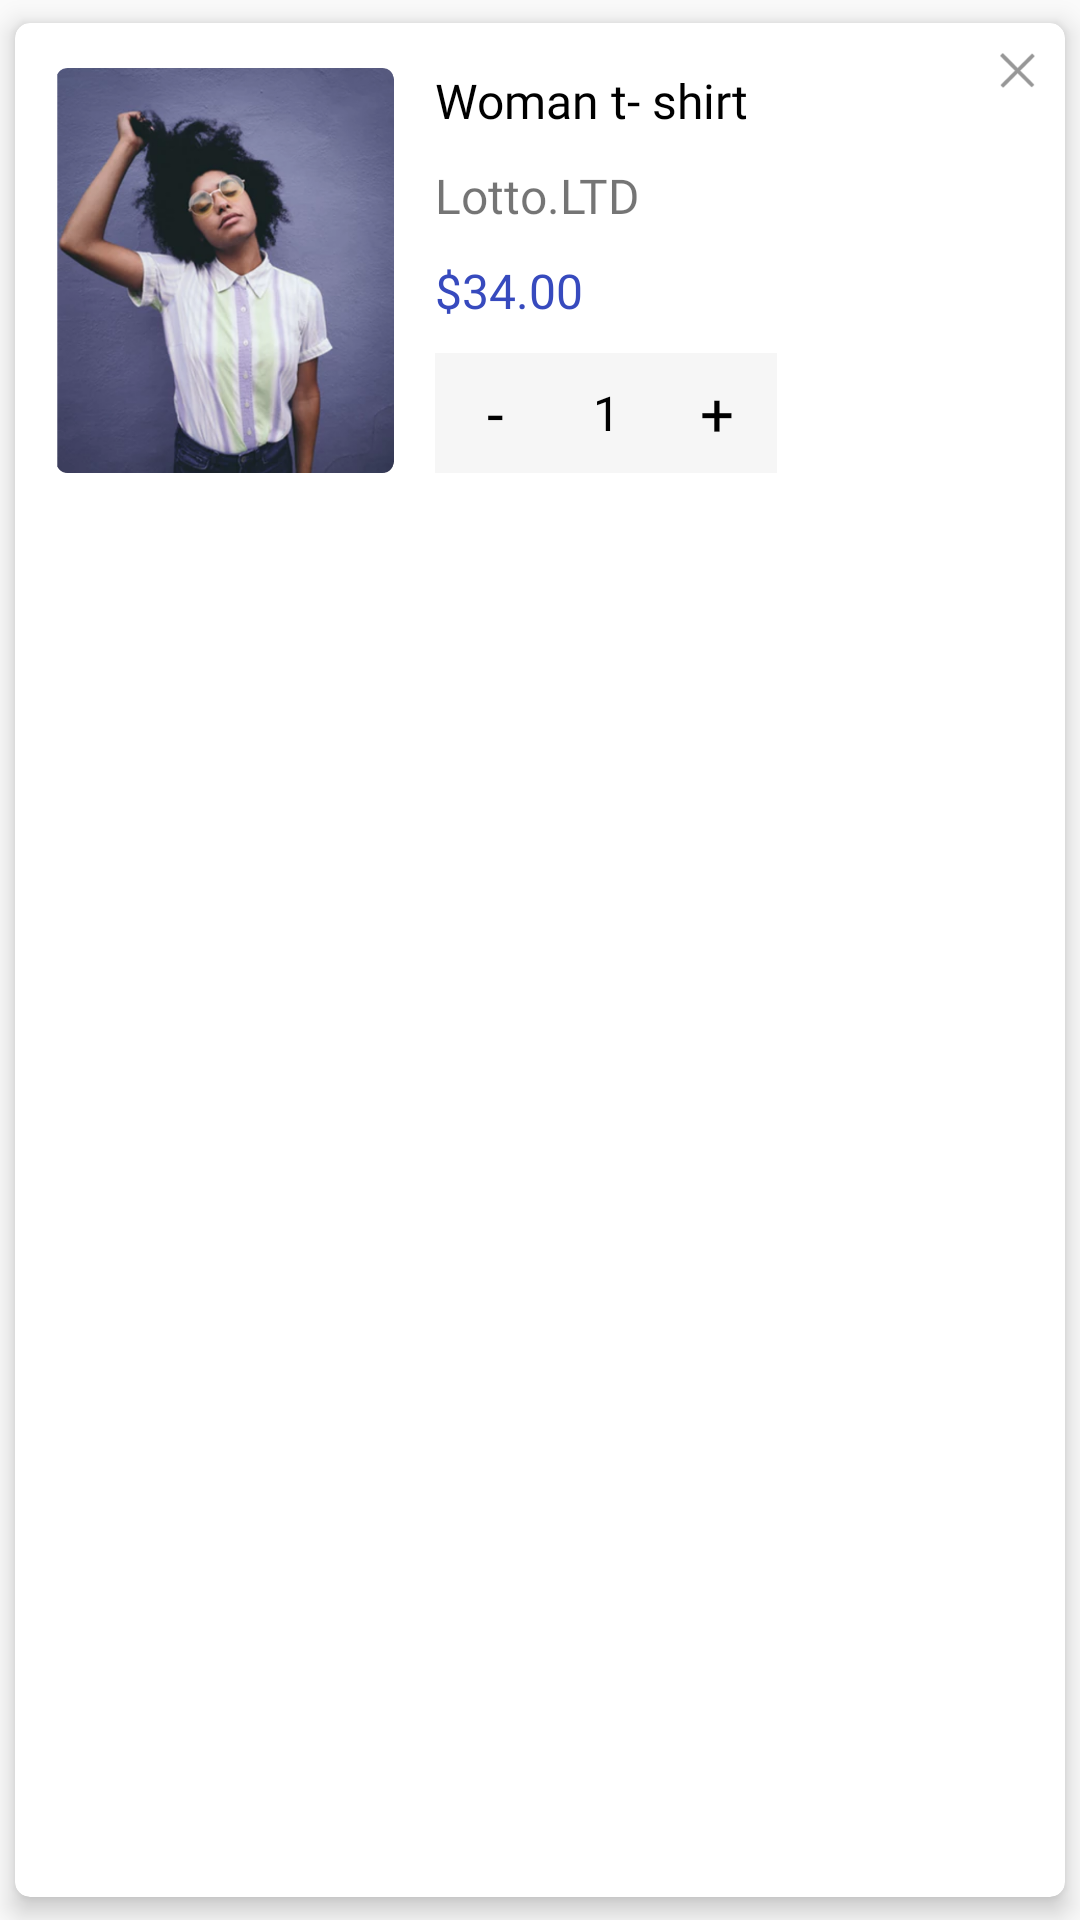

Named icons in this screenshot (1080px×1920px) and their bounding boxes, bbox=(x1, y1, x2, y2):
cross: bbox=(1000, 53, 1035, 88)
